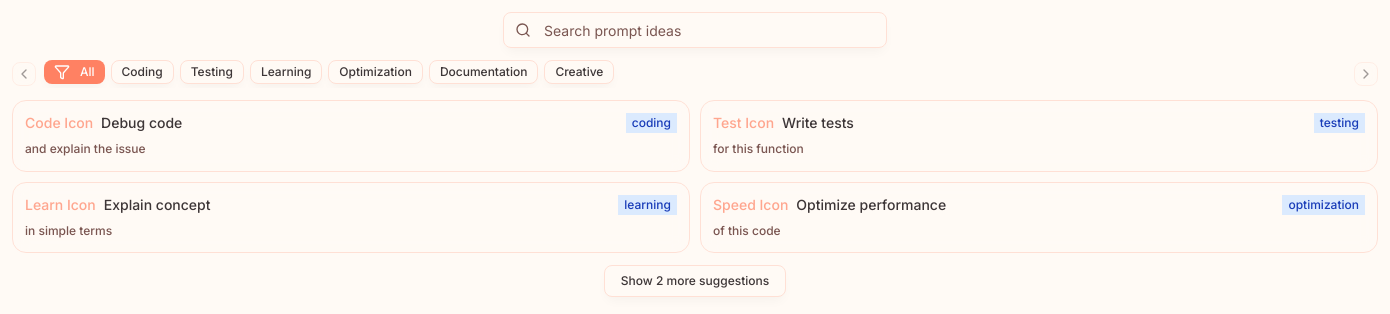
it: SuggestedPrompts Component › Category Filtering › filters suggestions by selected category
Step 1. Click the button "coding" → click(142, 72), box [111,60,174,84]
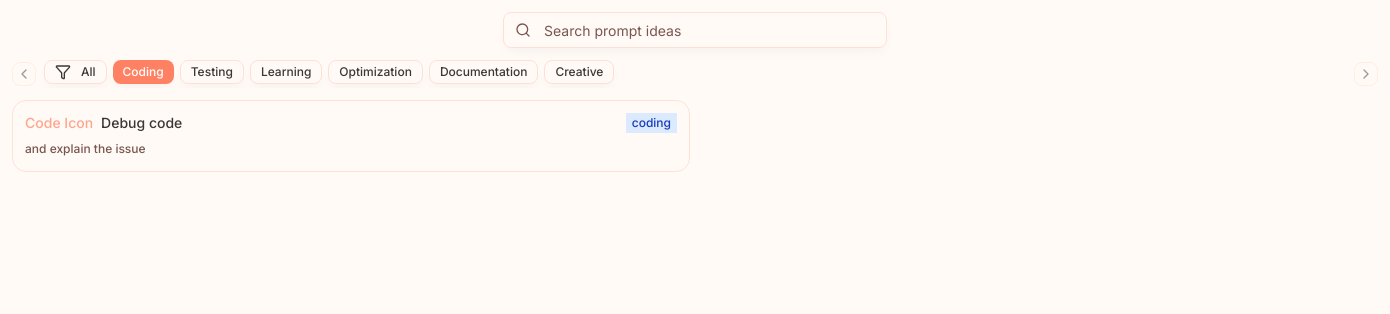
Expected: the text "Debug code" is shown, [101,113,182,133]
Now the button "Write tests" is gone
Now the button "Explain concept" is gone
